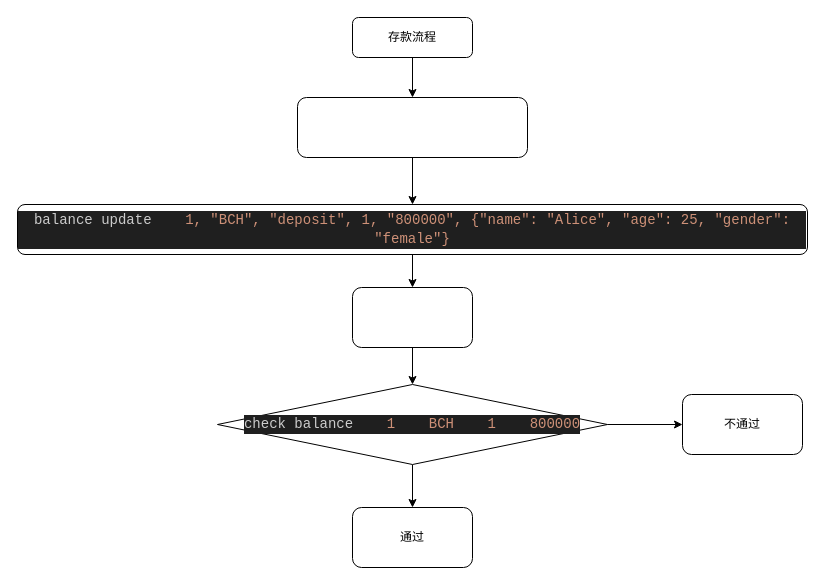
Image size: 825x585. Some labels were removed from this diagram. The centre of each missing label's shape, as x and y in pixels:
"init balance 1 BCH 1" goes at (x=412, y=127).
"make slice" goes at (x=412, y=317).
